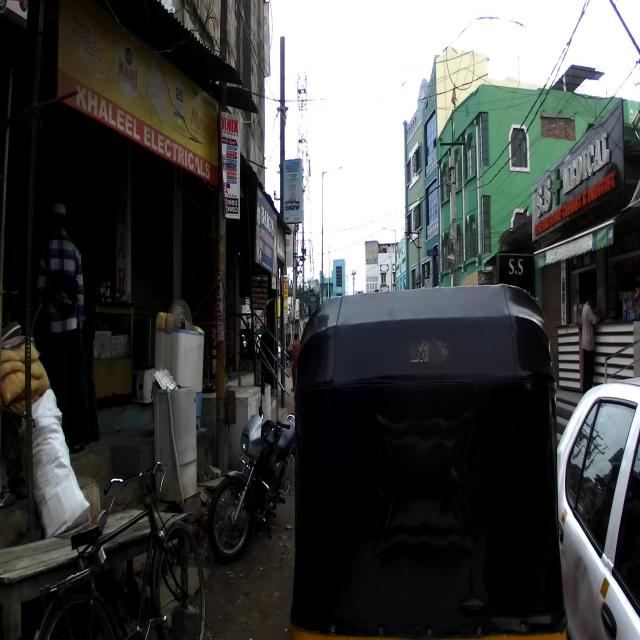autorickshaw: (288, 284, 567, 639)
car: (556, 378, 640, 640)
motorcycle: (209, 378, 300, 564)
